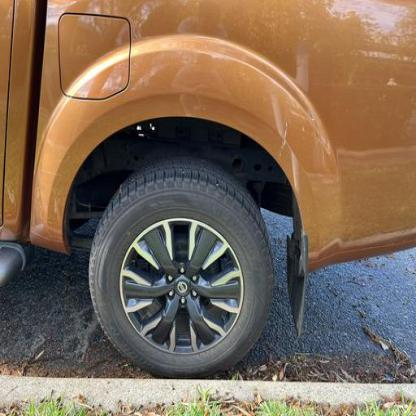Tire: (86, 155, 276, 380)
